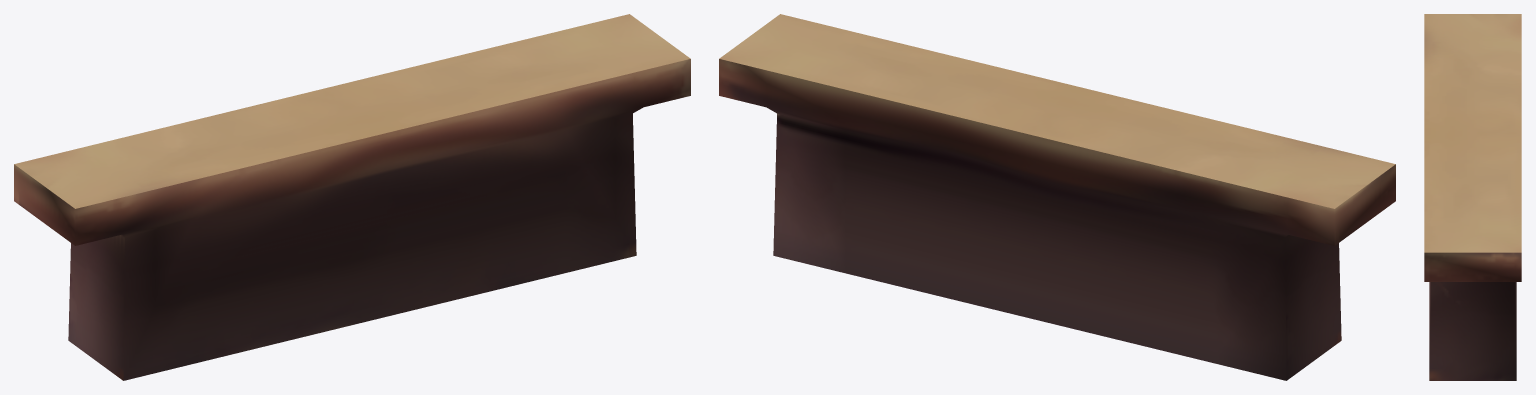
The model's file is table_001.fbx.
3 renders of one model, left to right at view 1: azimuth 30°, elevation 25°; view 2: azimuth 150°, elevation 25°; view 3: azimuth 270°, elevation 25°, orthographic. The views are drawn at different scales.
Parts seen in each view (by area): view 1: table.001; view 2: table.001; view 3: table.001.
Part boxes in pixels (left/top/right/bottom): table.001: left=14, top=14, right=690, bottom=380; table.001: left=719, top=14, right=1395, bottom=380; table.001: left=1424, top=14, right=1521, bottom=380.
Bounding box in the file's own units: 344 × 99.79 × 59.28.
